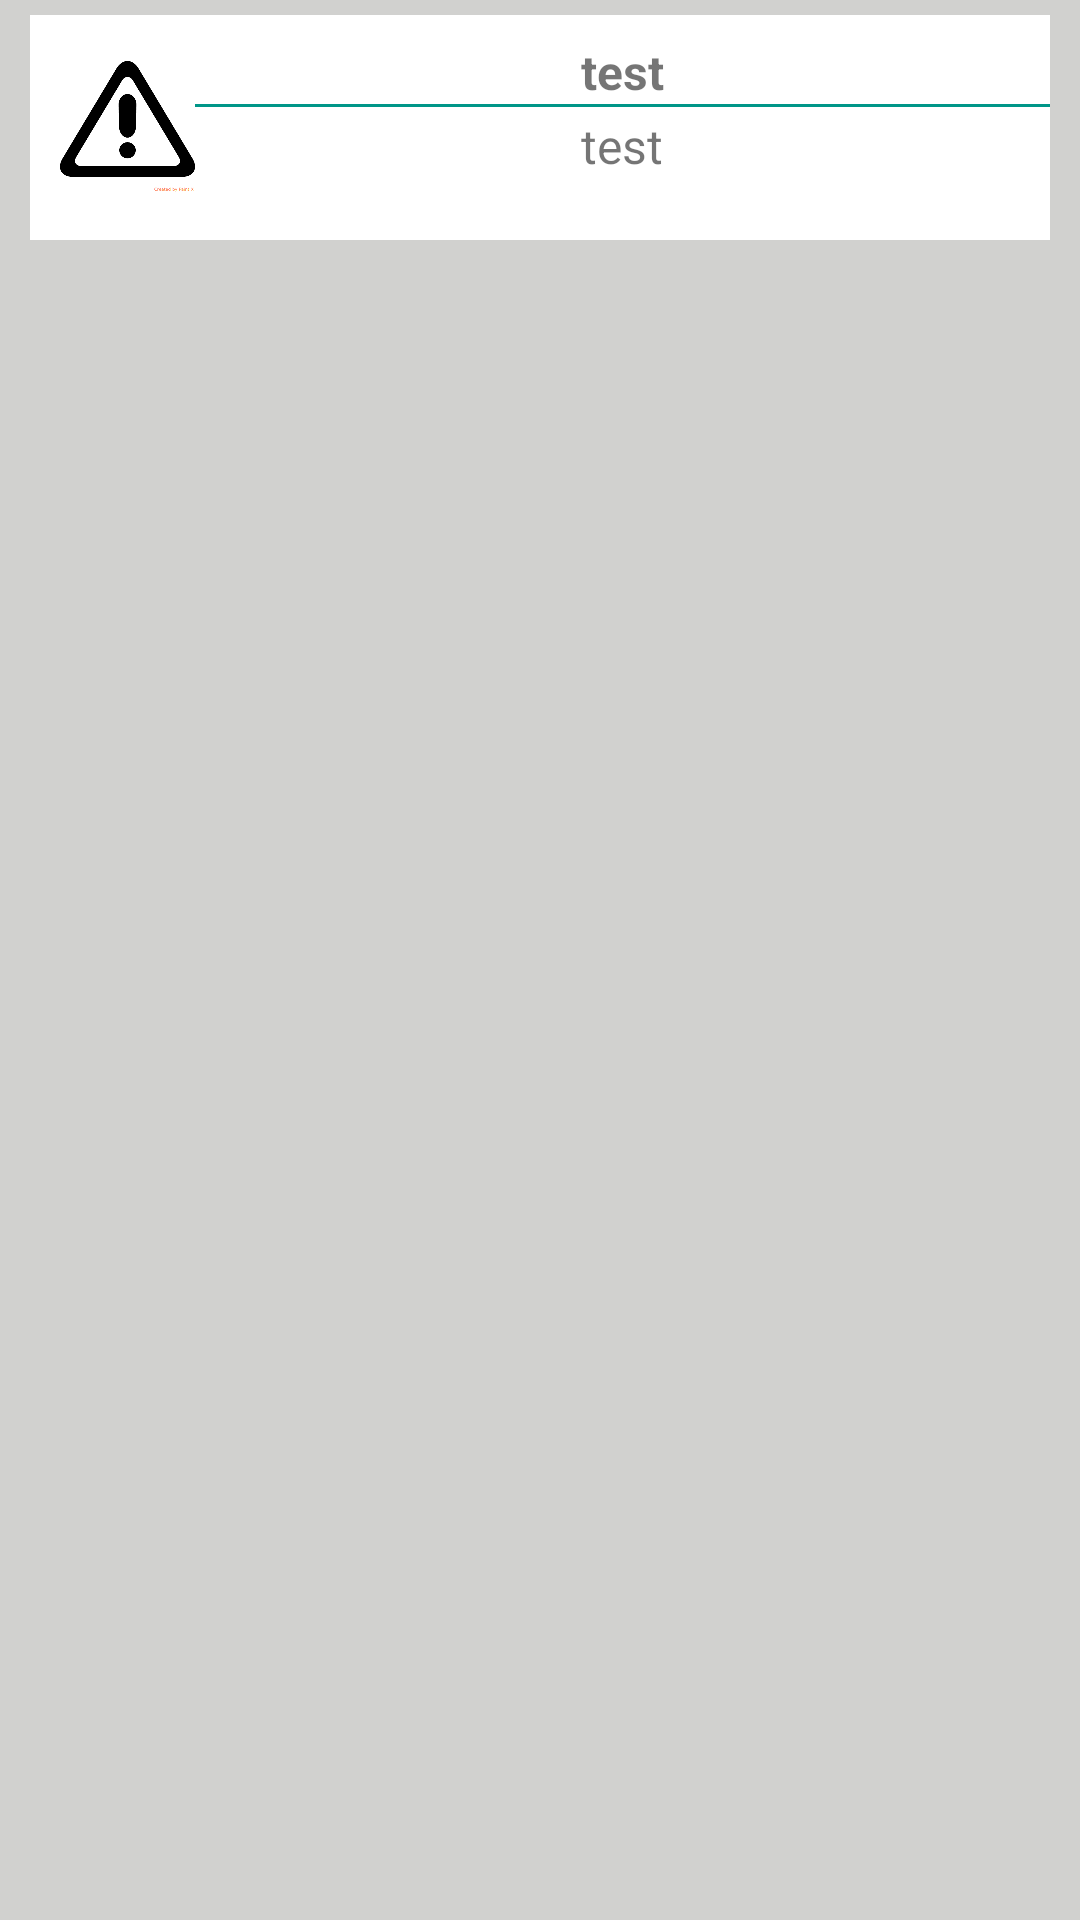

Icon bounding boxes for this 1080x1920 phone screenshot, format (x1, y1, x2, y2):
alert: (60, 61, 195, 192)
